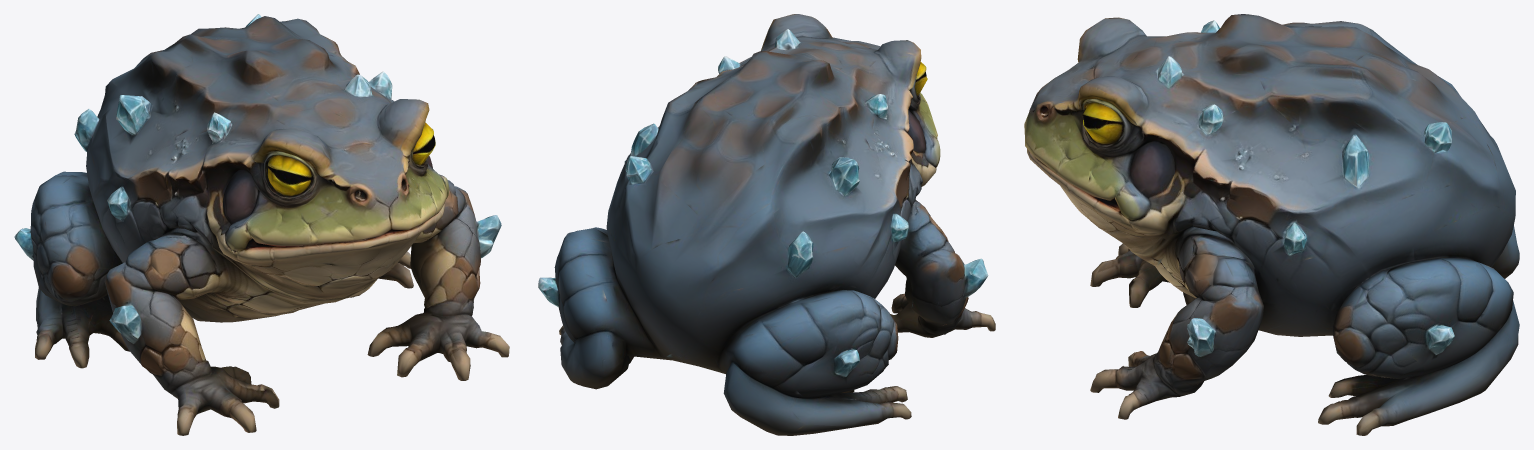
Rendered from sapo_v01.glb.
The picture shows the model from 3 angles, left to right: view 1: azimuth 30°, elevation 25°; view 2: azimuth 150°, elevation 25°; view 3: azimuth 270°, elevation 25°; orthographic projection. The views are drawn at different scales.
Size of the model in its own units: 0.9103 by 0.6883 by 0.9877.
1 material, 1 textured.
